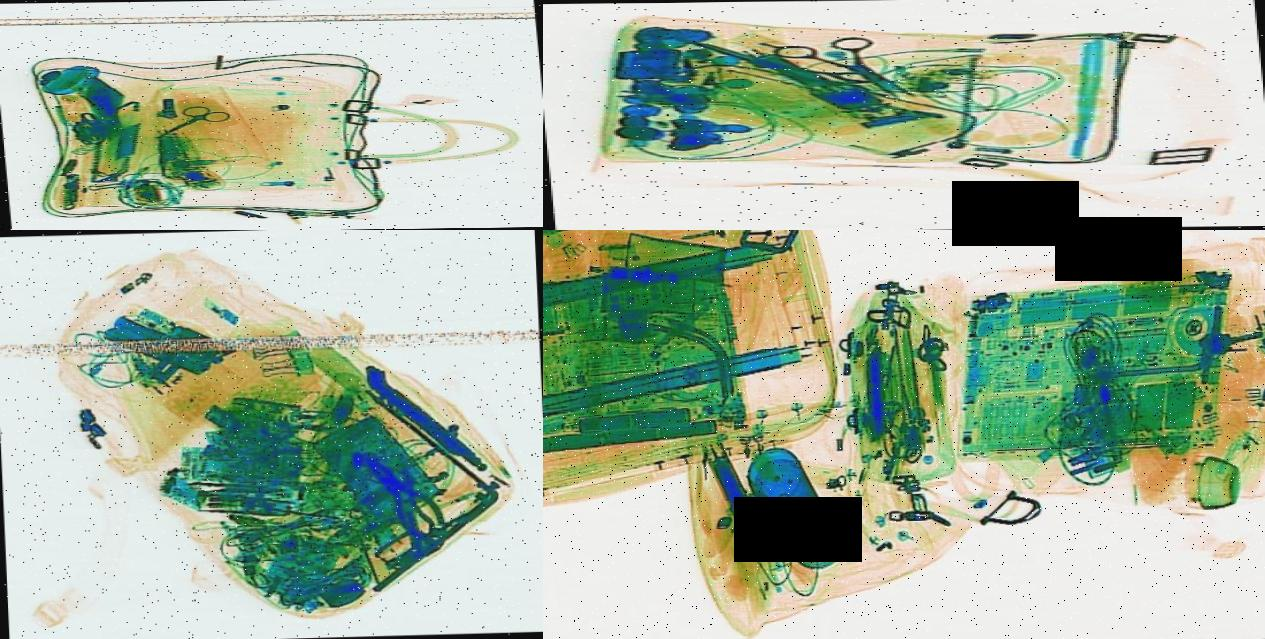Pliers: (350, 447, 458, 544)
Scissors: (768, 33, 961, 105), (143, 102, 240, 140)
